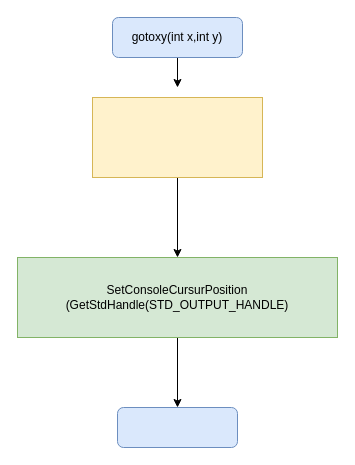
Some shapes in this 355 by 465 pixel diagram are drawn without their labels. The shapes that lost their labels are listed below. From the top down, each one's centre as x and y in pixels, then its label:
At (x=177, y=137): "COORD coord coord.X=x coord.Y=y".
At (x=177, y=427): "return".
